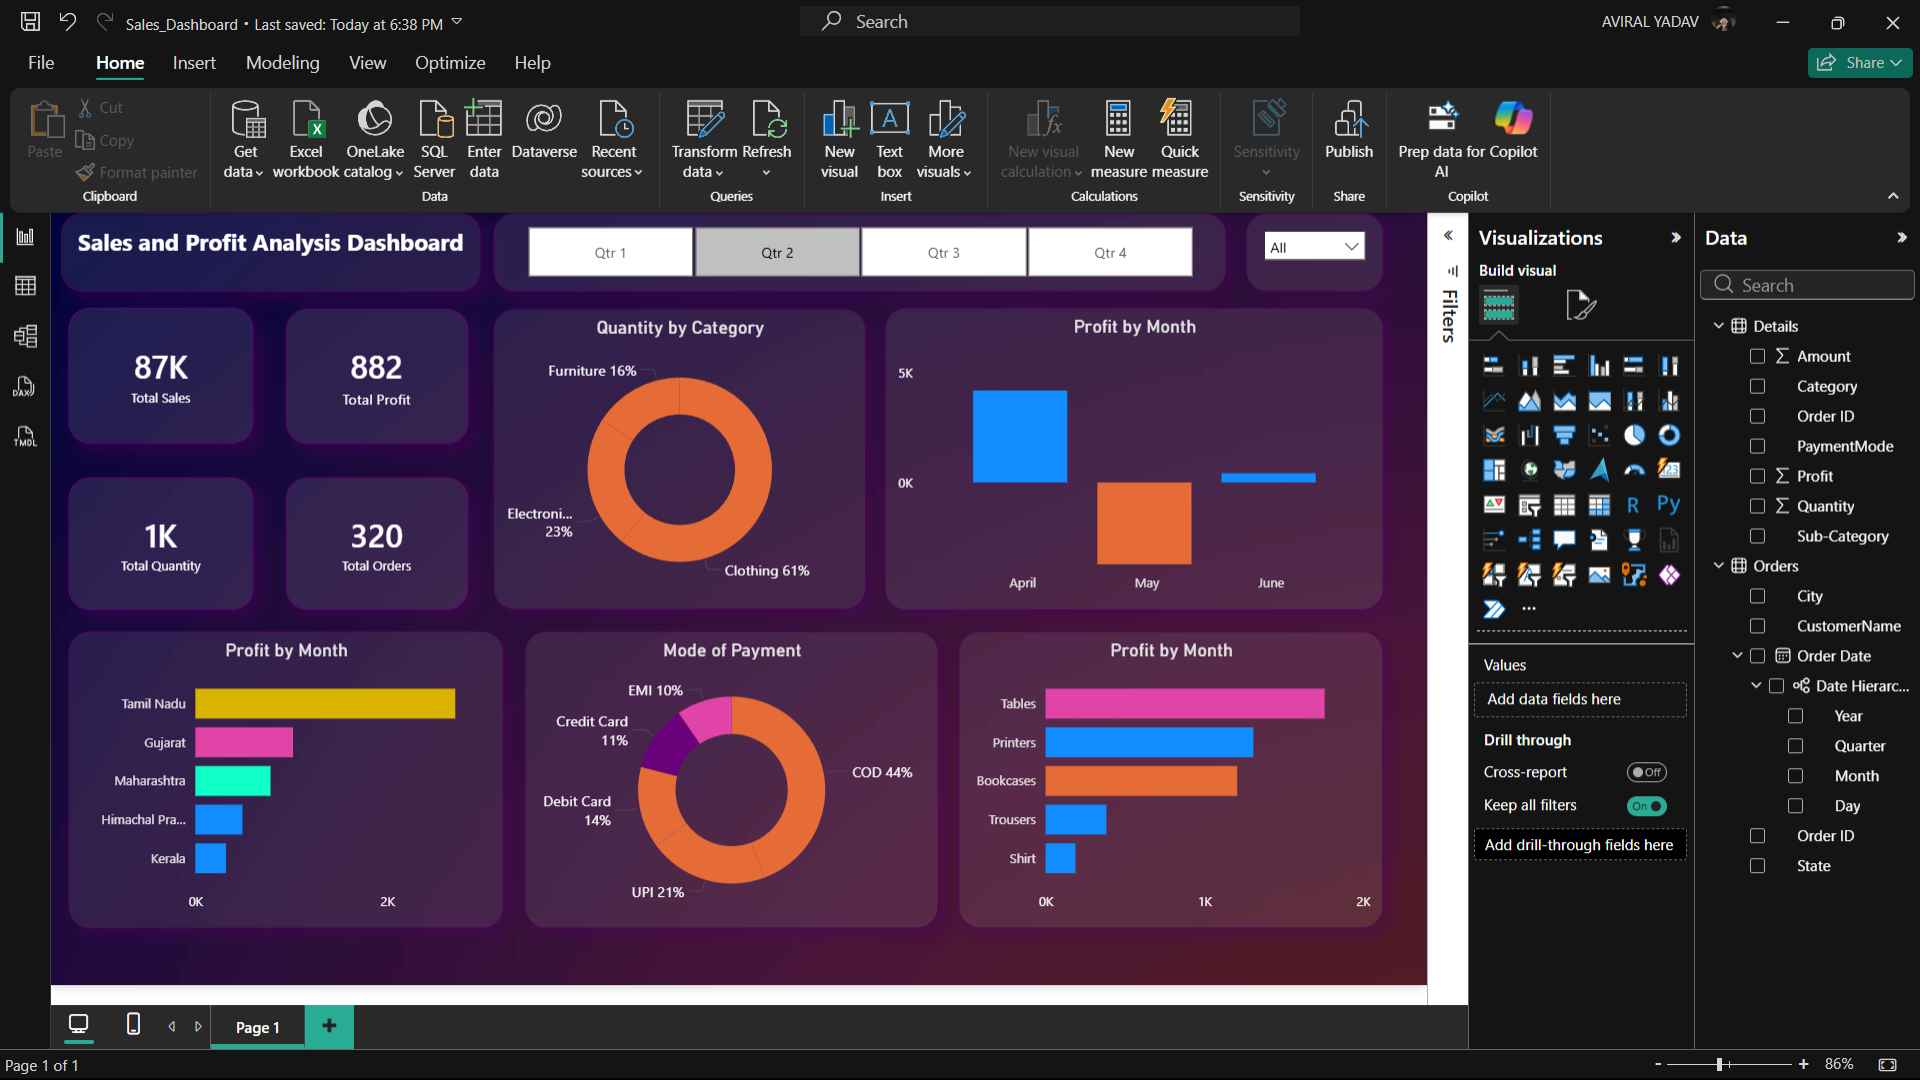

This screenshot's page, from the dashboard's own definition file:
{"tool":"powerbi","page":{"name":"Page 1","canvas":[1280,720],"ordinal":0},"visuals":[{"type":"textbox","box":[9.3,0,390.7,73.3],"z":0},{"type":"columnChart","title":"Profit by Month","fields":{"Category":["Orders.Order Date.Variation.Date Hierarchy.Month"],"Y":["Sum(Details.Profit)"]},"box":[775.6,88.4,464,281.4],"z":1000},{"type":"barChart","title":"Profit by Month","fields":{"Category":["Details.Sub-Category"],"Y":["Sum(Details.Profit)"]},"box":[844.2,389.5,395.3,276.7],"z":2000},{"type":"donutChart","title":"Quantity by Category","fields":{"Category":["Details.Category"],"Y":["Sum(Details.Quantity)"]},"box":[411.6,89.5,346.5,280.2],"z":3000},{"type":"donutChart","title":"Mode of Payment","fields":{"Y":["Sum(Details.Quantity)"],"Category":["Details.PaymentMode"]},"box":[440.7,389.5,384.9,276.7],"z":4000},{"type":"cardVisual","fields":{"Data":["Sum(Details.Amount)"]},"box":[16.3,88.4,172.1,126.7],"z":5000},{"type":"cardVisual","fields":{"Data":["Sum(Details.Profit)"]},"box":[218.6,89.5,169.8,125.6],"z":6000},{"type":"cardVisual","fields":{"Data":["Sum(Details.Quantity)"]},"box":[16.3,246.5,172.1,123.3],"z":6001},{"type":"cardVisual","fields":{"Data":["CountNonNull(Details.Order ID)"]},"box":[218.6,246.5,169.8,123.3],"z":6002},{"type":"barChart","title":"Profit by Month","fields":{"Y":["Sum(Details.Profit)"],"Category":["Orders.State"]},"box":[16.3,389.5,404.7,276.7],"z":6003},{"type":"slicer","fields":{"Values":["Orders.Order Date.Variation.Date Hierarchy.Quarter"]},"box":[411.6,0,681.4,73.3],"z":6004},{"type":"slicer","fields":{"Values":["Orders.State"]},"box":[1111.6,0,127.9,73.3],"z":6005}]}

Visuals, with their boxes on the page's 1280x720 design canvas (x1, y1, x2, y2). These are canvas units, not pixel positions in the 1920x1080 screenshot, which may show the page scaled, cropped or inside an application window:
textbox: 9,0,400,73
"Profit by Month" columnChart: 776,88,1240,370
"Profit by Month" barChart: 844,390,1240,666
"Quantity by Category" donutChart: 412,90,758,370
"Mode of Payment" donutChart: 441,390,826,666
cardVisual - Sum(Details.Amount): 16,88,188,215
cardVisual - Sum(Details.Profit): 219,90,388,215
cardVisual - Sum(Details.Quantity): 16,246,188,370
cardVisual - CountNonNull(Details.Order ID): 219,246,388,370
"Profit by Month" barChart: 16,390,421,666
slicer - Orders.Order Date.Variation.Date Hierarchy.Quarter: 412,0,1093,73
slicer - Orders.State: 1112,0,1240,73
